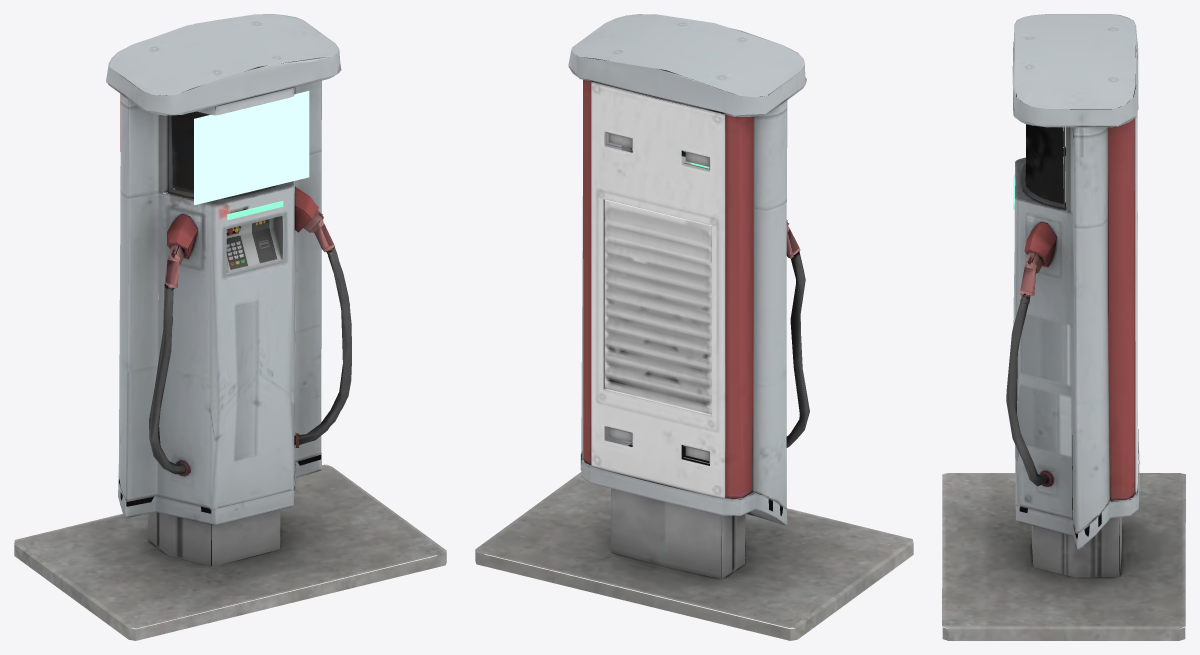
The model's file is ladesaeule_lod2.glb.
3 renders of one model, left to right at view 1: azimuth 30°, elevation 25°; view 2: azimuth 150°, elevation 25°; view 3: azimuth 270°, elevation 25°, orthographic.
Parts seen in each view (by area): view 1: Frontpanel, Sockel, Gehaeuse, ladesaeule_display, Korpus, Kabel, Stecker; view 2: Korpus, Sockel, Gehaeuse, Frontpanel, Kabel; view 3: Sockel, Frontpanel, Gehaeuse, Korpus, Kabel, Stecker.
Boxes of the visible parts, x1,y1,x2,y2 form: Frontpanel: (118,80,321,513); Sockel: (14,94,446,640); Gehaeuse: (106,14,341,524); ladesaeule_display: (194,91,309,205); Korpus: (148,107,335,566); Kabel: (149,254,351,474); Stecker: (167,186,318,476); Korpus: (591,82,800,578); Sockel: (475,80,913,640); Gehaeuse: (568,14,806,525); Frontpanel: (581,92,787,516); Kabel: (786,251,809,447); Sockel: (942,118,1185,640); Frontpanel: (1013,127,1109,538); Gehaeuse: (1012,14,1139,549); Korpus: (1019,48,1138,577); Kabel: (1006,302,1048,486); Stecker: (1024,222,1056,486).
Size of the model in its own units: 1.14 by 1.75 by 0.7533.
Materials: 3 (1 with a texture image).
